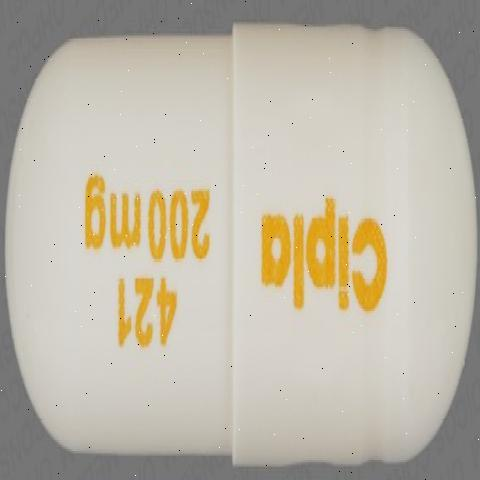Pill: (0, 20, 476, 468)
